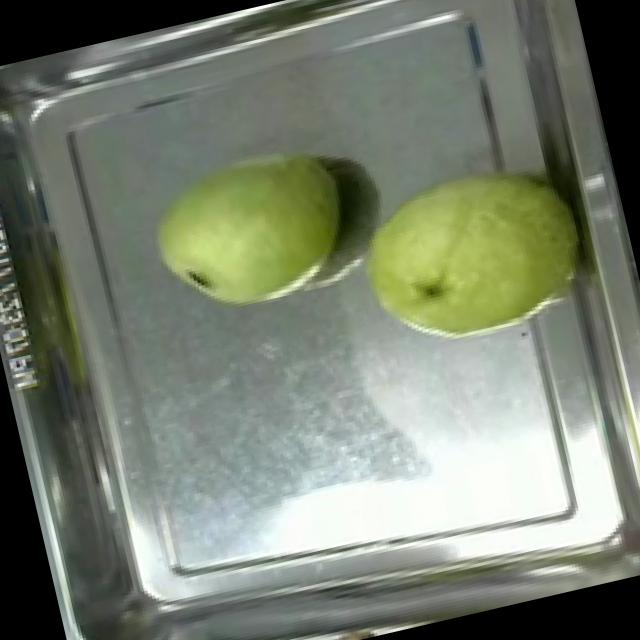Fruit: (334, 142, 606, 374), (132, 127, 368, 332)
